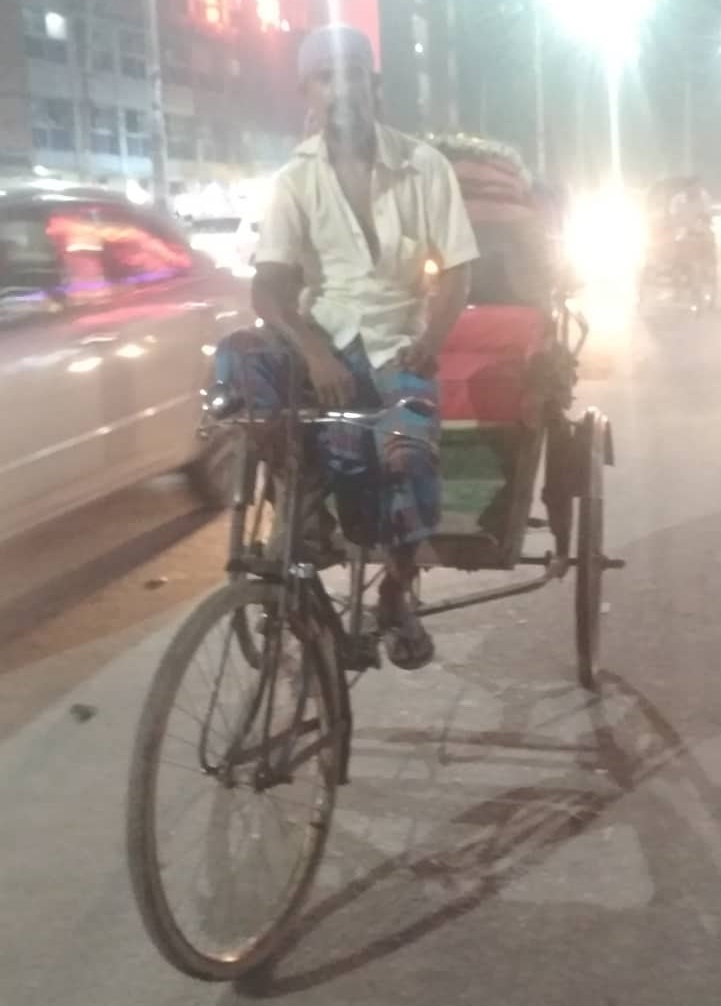Rickshaw: (129, 29, 636, 886)
